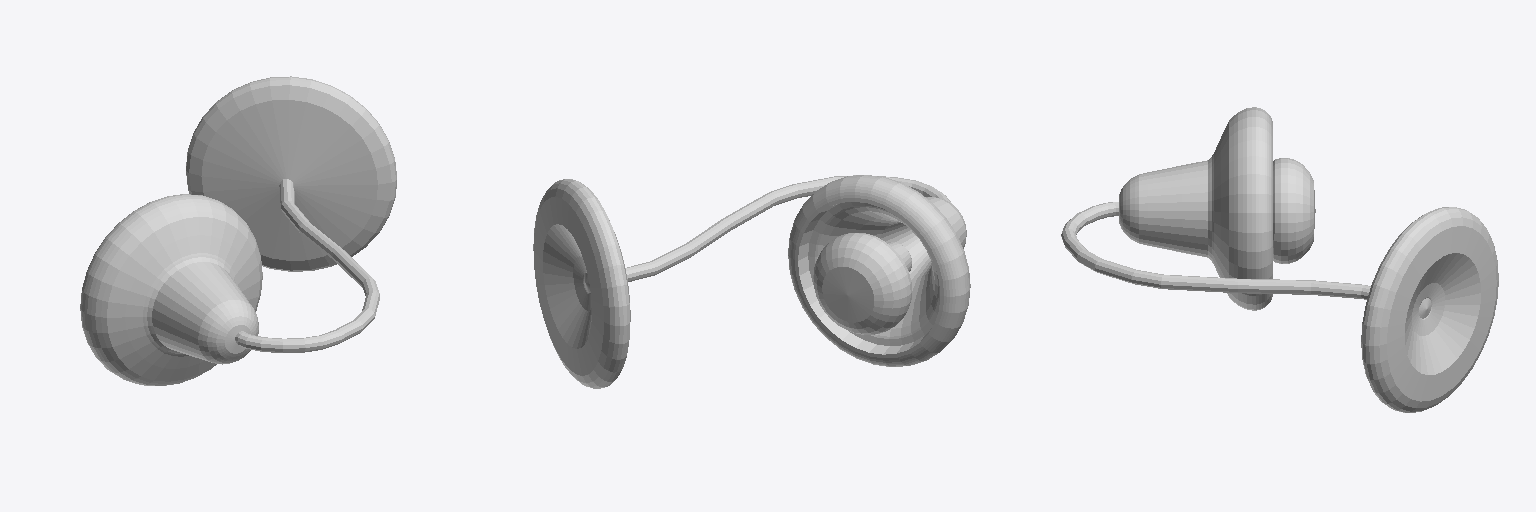
File: Lamp.obj
3 views of the same model, side by side, from view 1: azimuth 30°, elevation 25°; view 2: azimuth 150°, elevation 25°; view 3: azimuth 270°, elevation 25° (orthographic).
Visible parts, largest first — view 1: s0002.5963, s0000.8802, s0001.2660; view 2: s0000.8802, s0002.5963, s0003.0226, s0001.2660; view 3: s0002.5963, s0000.8802, s0001.2660, s0003.0226.
Boxes of the visible parts, x1,y1,x2,y2 form: s0002.5963: [186, 76, 396, 271]; s0000.8802: [80, 194, 262, 385]; s0001.2660: [235, 179, 379, 352]; s0000.8802: [788, 175, 970, 366]; s0002.5963: [533, 179, 630, 388]; s0003.0226: [813, 233, 911, 334]; s0001.2660: [625, 175, 952, 281]; s0002.5963: [1361, 207, 1498, 412]; s0000.8802: [1119, 107, 1272, 310]; s0001.2660: [1061, 202, 1370, 299]; s0003.0226: [1273, 158, 1315, 263].
Bounding box in the file's own units: 2.9 × 1.44 × 2.96.